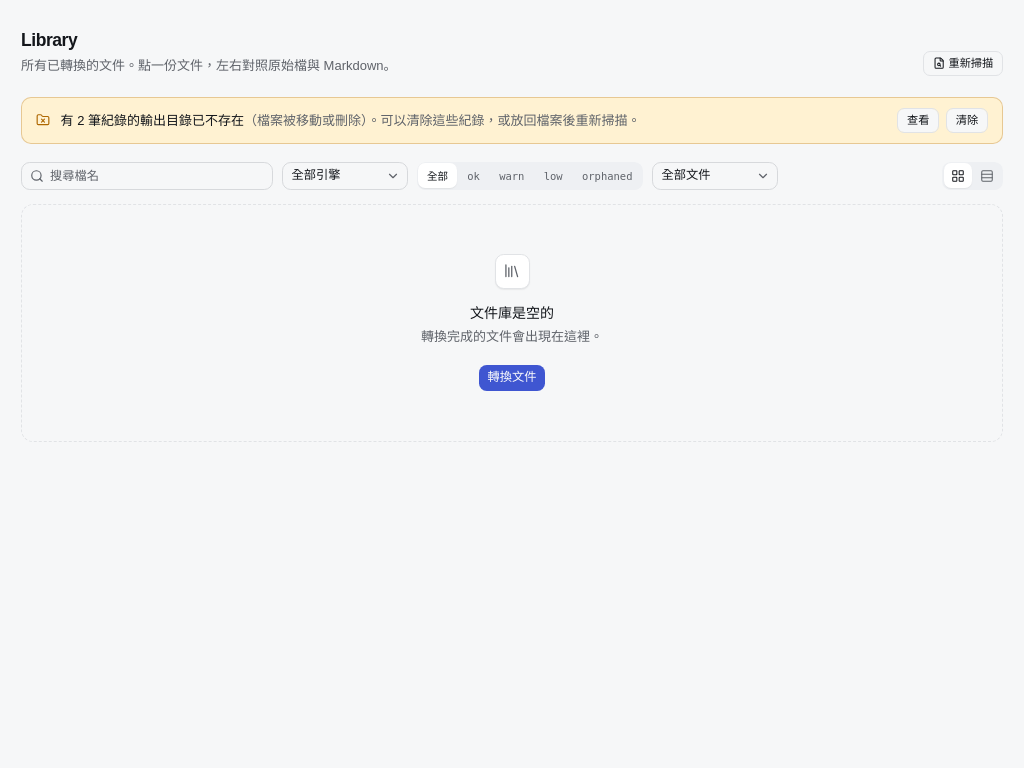
the confirmation always shows fresh copy numbers: they are fetched when it opens (browser B1)
Click the button "清除": (967, 120) [946,108,988,132]
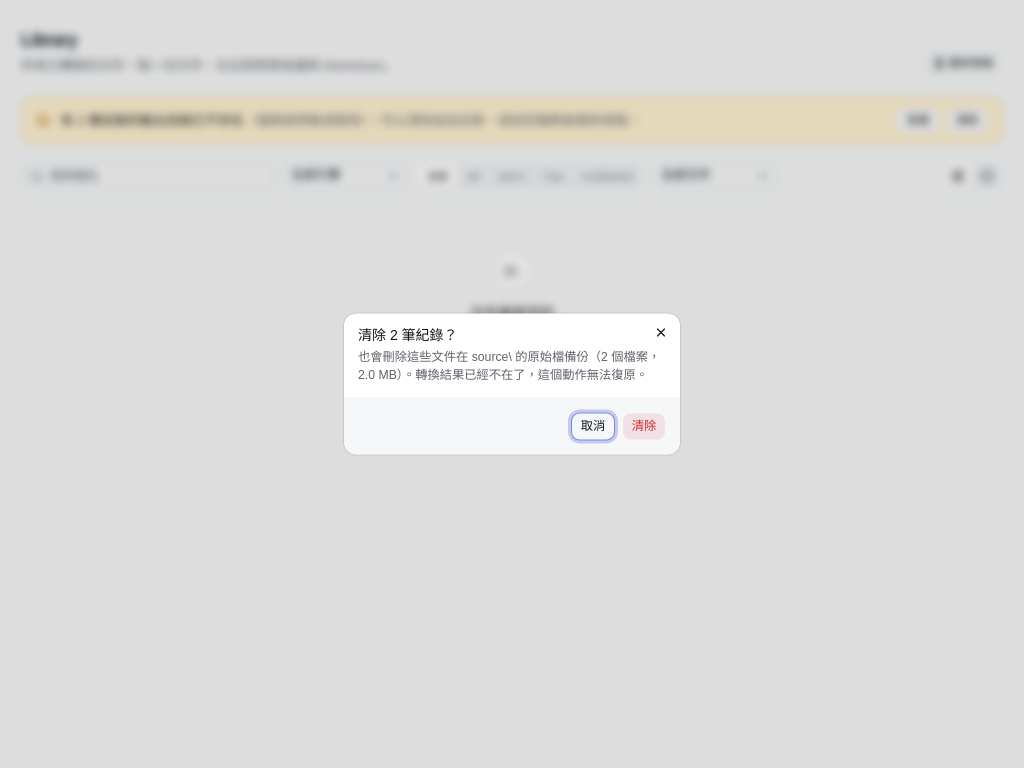
Now the dialog with test id "confirm-purge" shows "也會刪除這些文件在 source\\ 的原始檔備份（2 個檔案，2.0 MB）", box [358,350,660,381]
Now the button "清除" is enabled, box [622,412,666,440]
